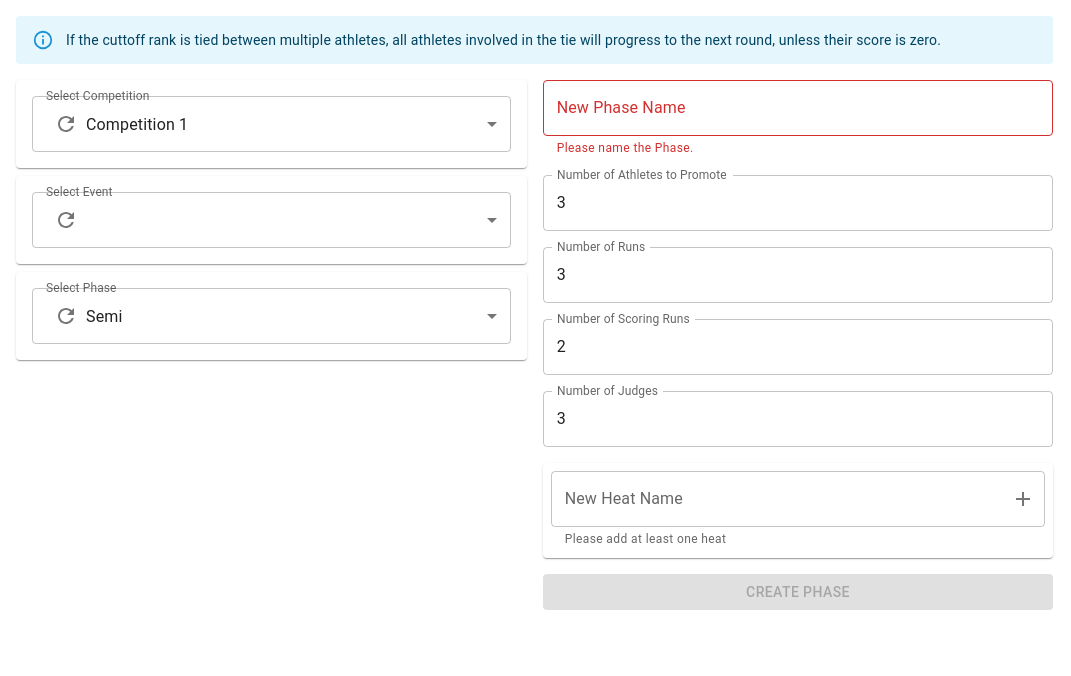
PromotePhase › labels the add-heat and remove-heat buttons for assistive tech
The width and height of the screenshot is (1071, 676).
Expected: the button named "Add heat" is shown, x1=1003 y1=479 x2=1043 y2=519
Step 1. Type "Heat A" into the field labelled "New Heat Name" → [773, 499], box x1=551 y1=471 x2=995 y2=527
Then press Enter
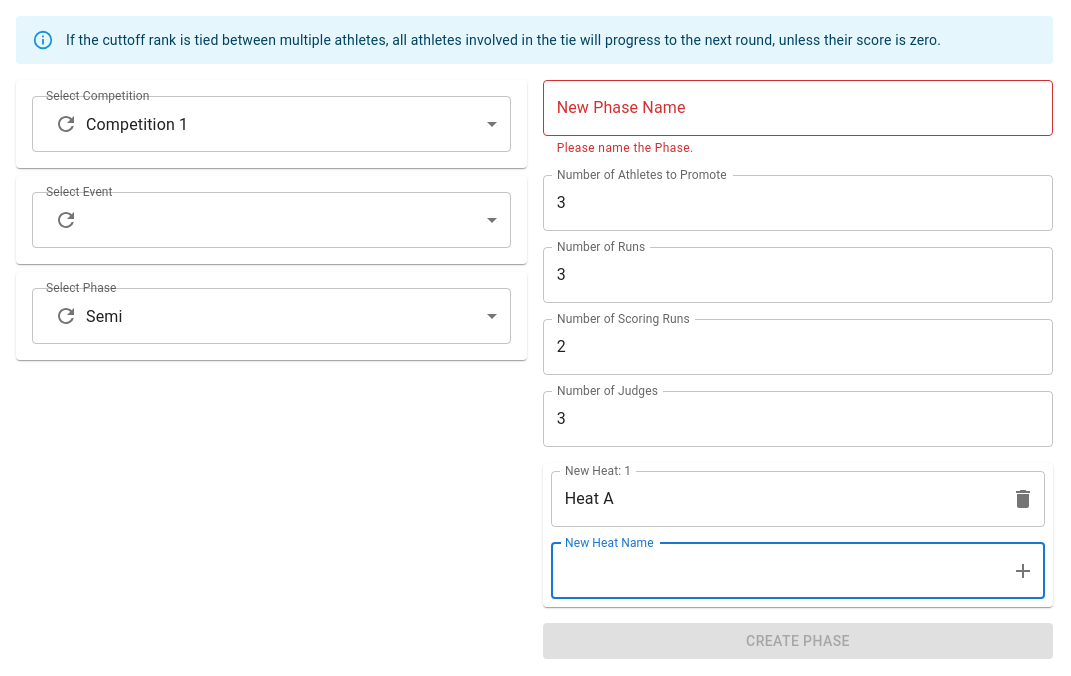
Result: the button named "Remove heat 1" is shown at x1=1003 y1=479 x2=1043 y2=519
